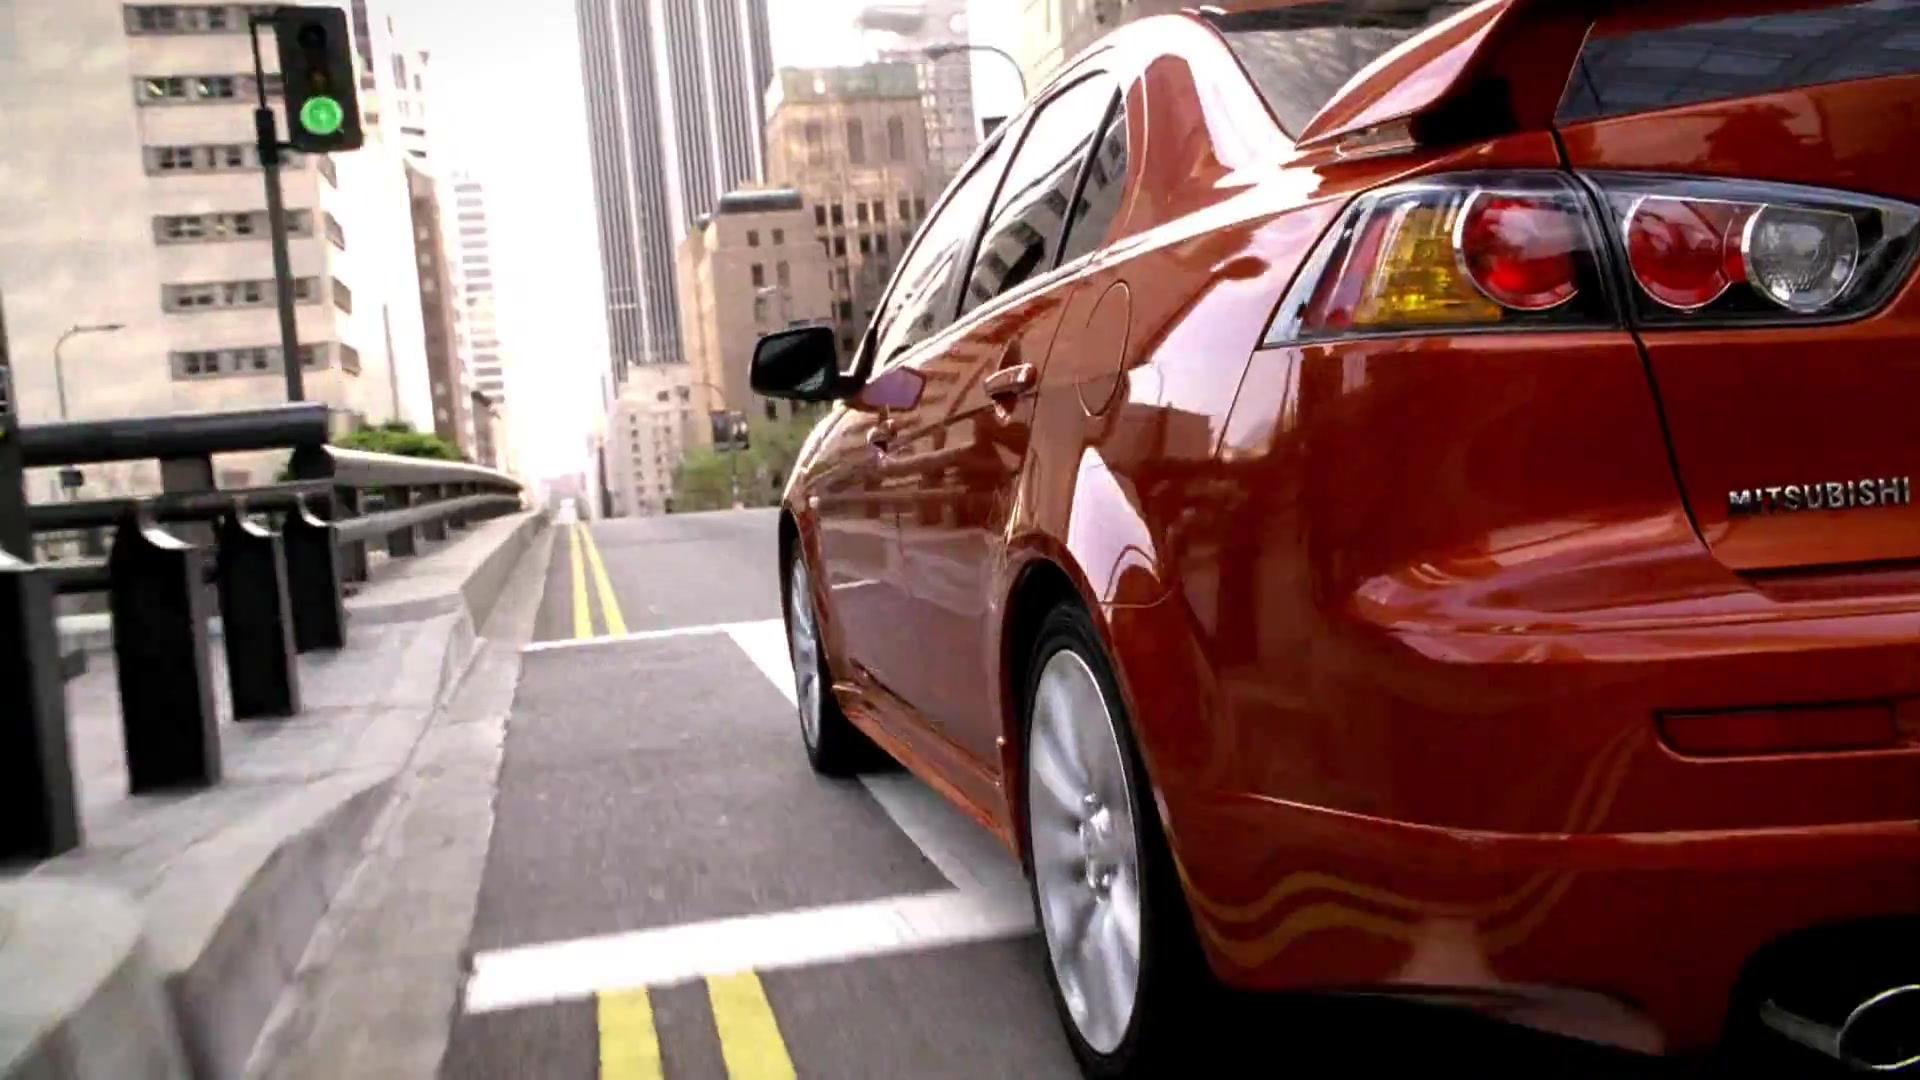car: (746, 7, 1920, 1080)
